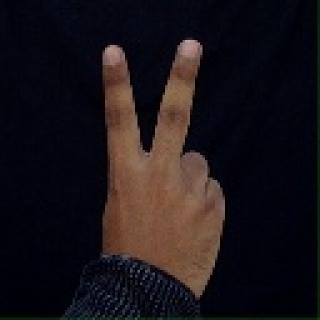V: (78, 7, 226, 303)
